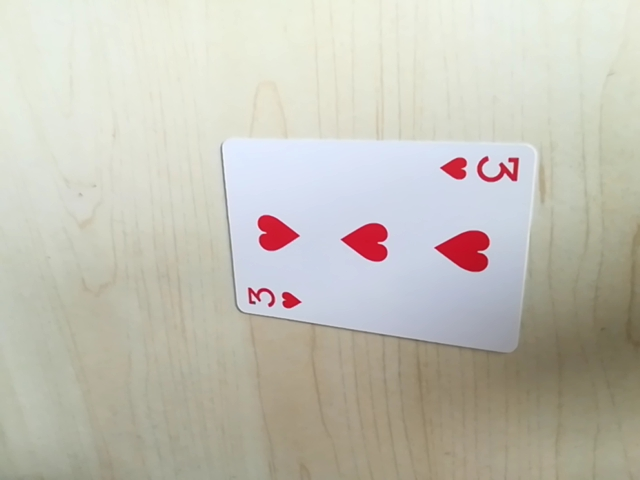hx 3: (437, 149, 524, 190), (241, 283, 305, 317)
